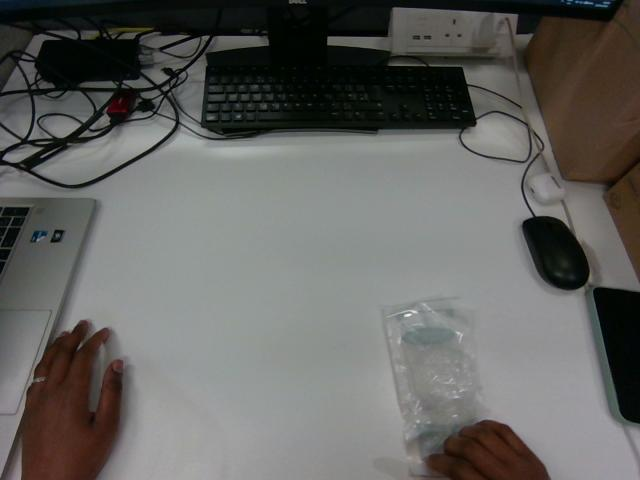gallipot: (383, 300, 485, 475)
